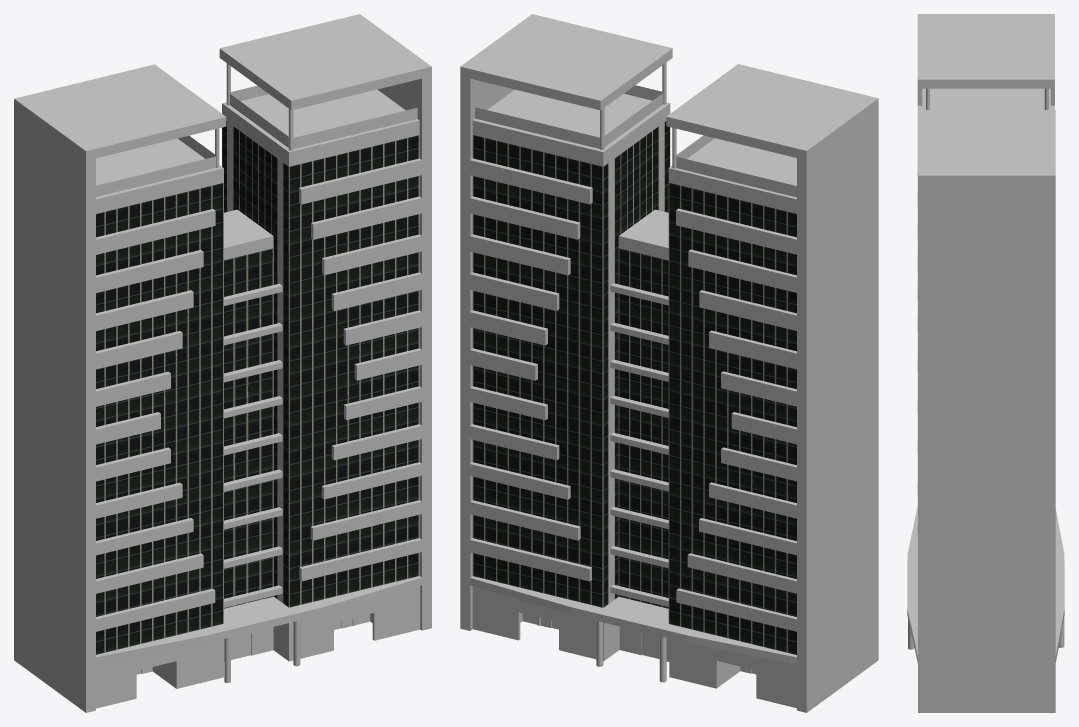
The picture shows the model from 3 angles, left to right: view 1: azimuth 30°, elevation 25°; view 2: azimuth 150°, elevation 25°; view 3: azimuth 270°, elevation 25°; orthographic projection. The views are drawn at different scales.
Parts seen in each view (by area): view 1: BC-P06; view 2: BC-P06; view 3: BC-P06.
Boxes of the visible parts, box(x1,y1,x2,y2) form: BC-P06: box(14, 14, 431, 712); BC-P06: box(460, 14, 878, 712); BC-P06: box(907, 14, 1064, 712).
Size of what is drawn, in the model's own units: 47.72 by 74 by 19.61.
